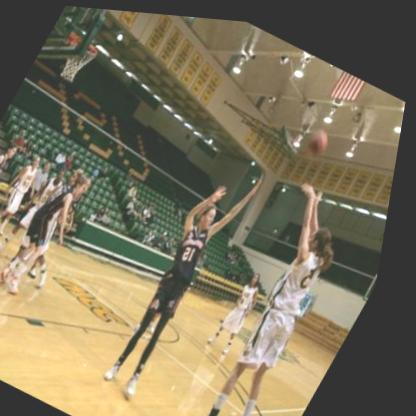basketball: (304, 118, 340, 156)
rim: (70, 31, 103, 56)
